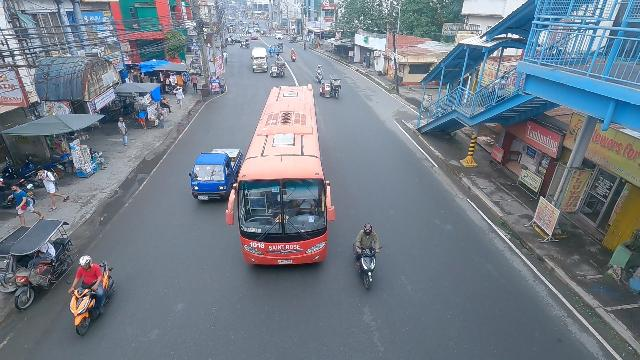bus: (230, 85, 331, 271)
car: (250, 32, 259, 40), (233, 36, 241, 43), (253, 24, 259, 32), (248, 28, 253, 33)
jeepney: (250, 47, 269, 73)
motorcycle: (67, 257, 115, 336), (351, 225, 383, 290), (316, 64, 324, 83), (289, 50, 297, 62), (269, 49, 274, 57), (268, 29, 272, 36)
truck: (187, 147, 244, 203)
van: (274, 30, 283, 39)
